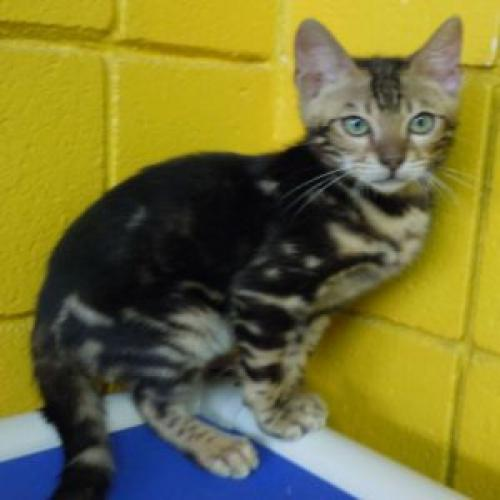bengal: (283, 9, 476, 209)
